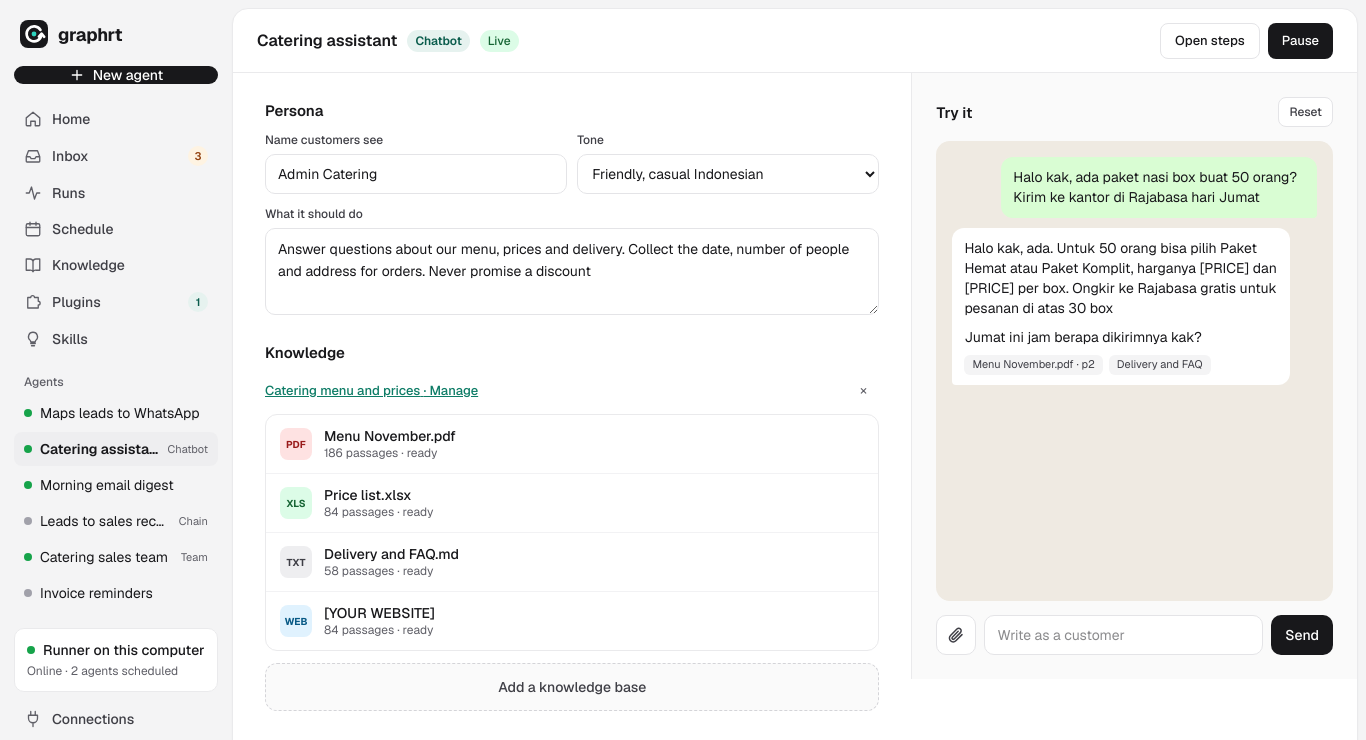
ChatbotSetupPage › draws the card and chart the bot returns, and a card button answers as the customer
Expected: the text "Jumat ini jam berapa dikirimnya kak?" is shown, [964,328,1202,346]
Type "Buat pesanan 50 box" into the field named "Test message" at [1124, 635], box [984,615,1263,655]
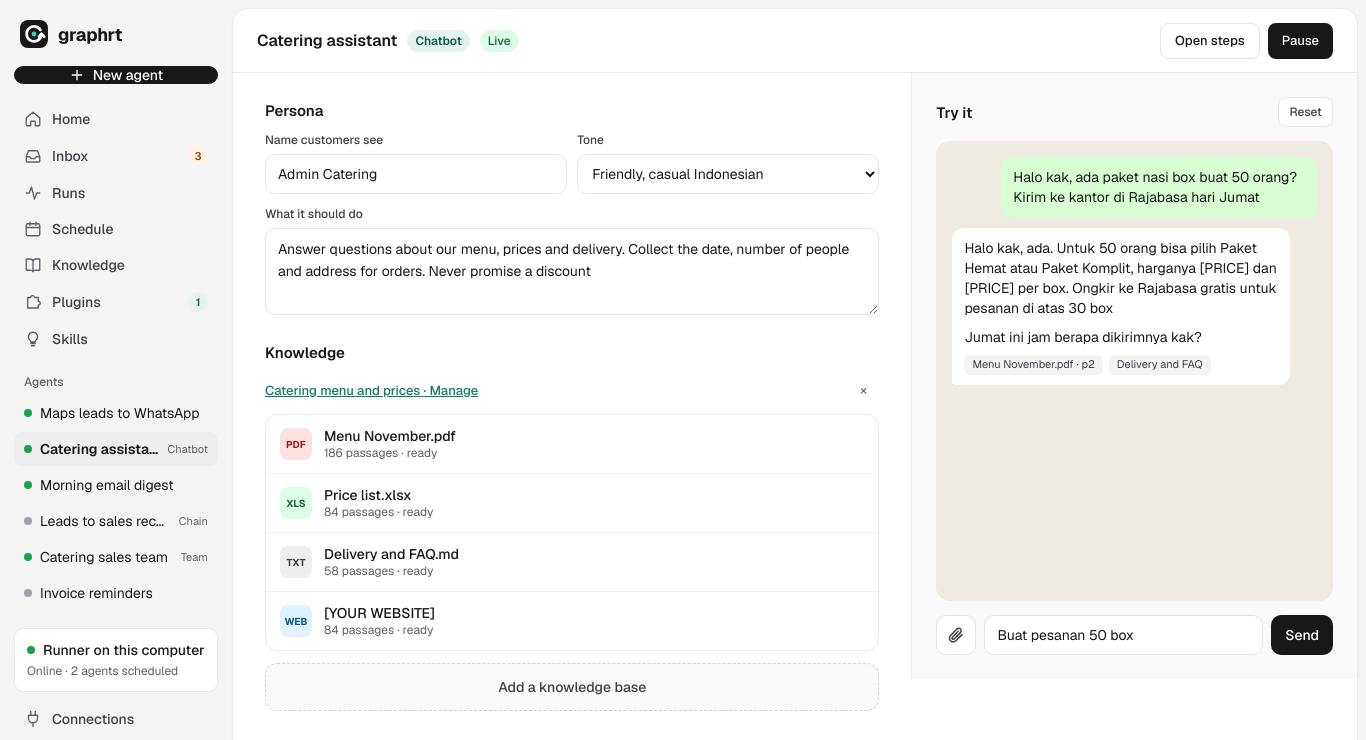
Click the button "Send" at [1302, 635], box [1271,615,1333,655]
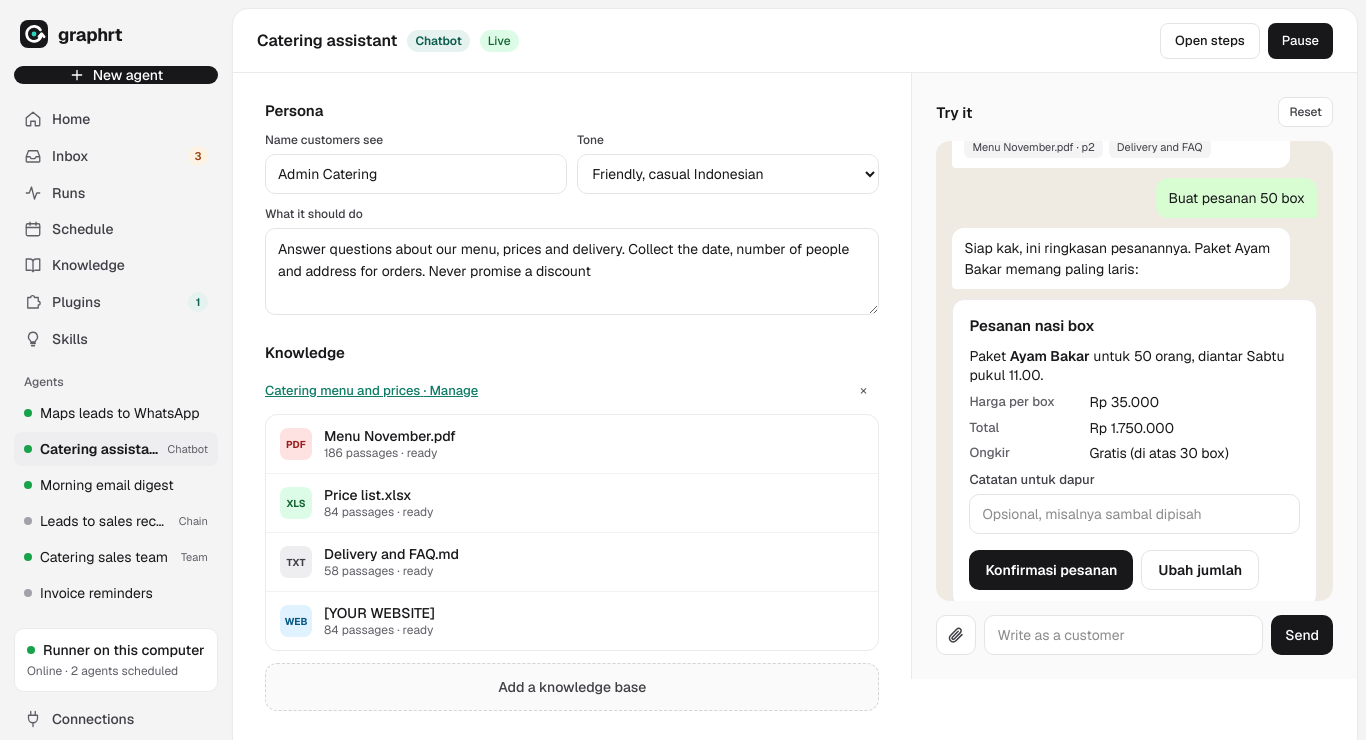
Expected: the element "Pesanan nasi box" is shown, [952,299,1317,601]
Click the button "Konfirmasi pesanan" at [1051, 570], box [969,550,1133,590]
(page scrolled)
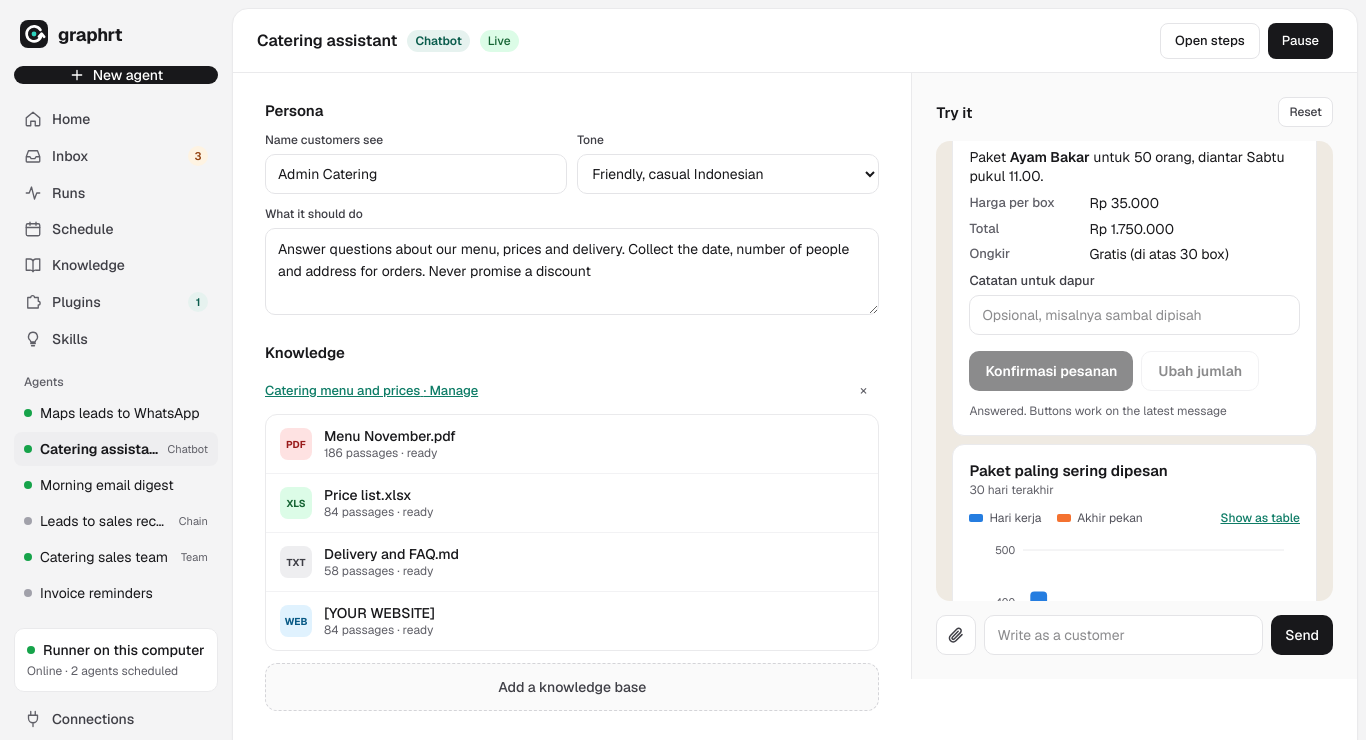
Expected: the button "Konfirmasi pesanan" is disabled, [969,351,1133,391]
